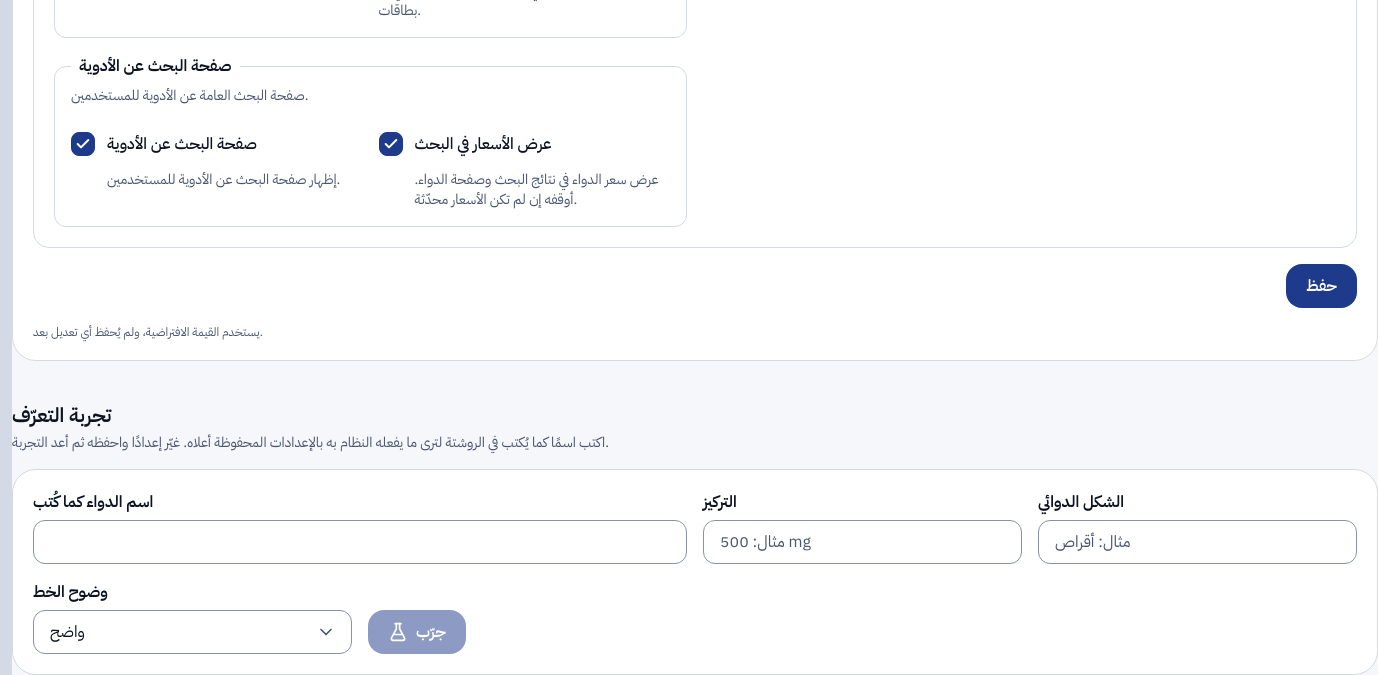
Test: DrugRecognitionView: sandbox › explains a verification in plain words and warns when the engine is off
This screenshot has width=1378, height=675.
(page scrolled)
In the field labelled "اسم الدواء كما كُتب": (360, 542) [33,520,687,564], type "flumox"
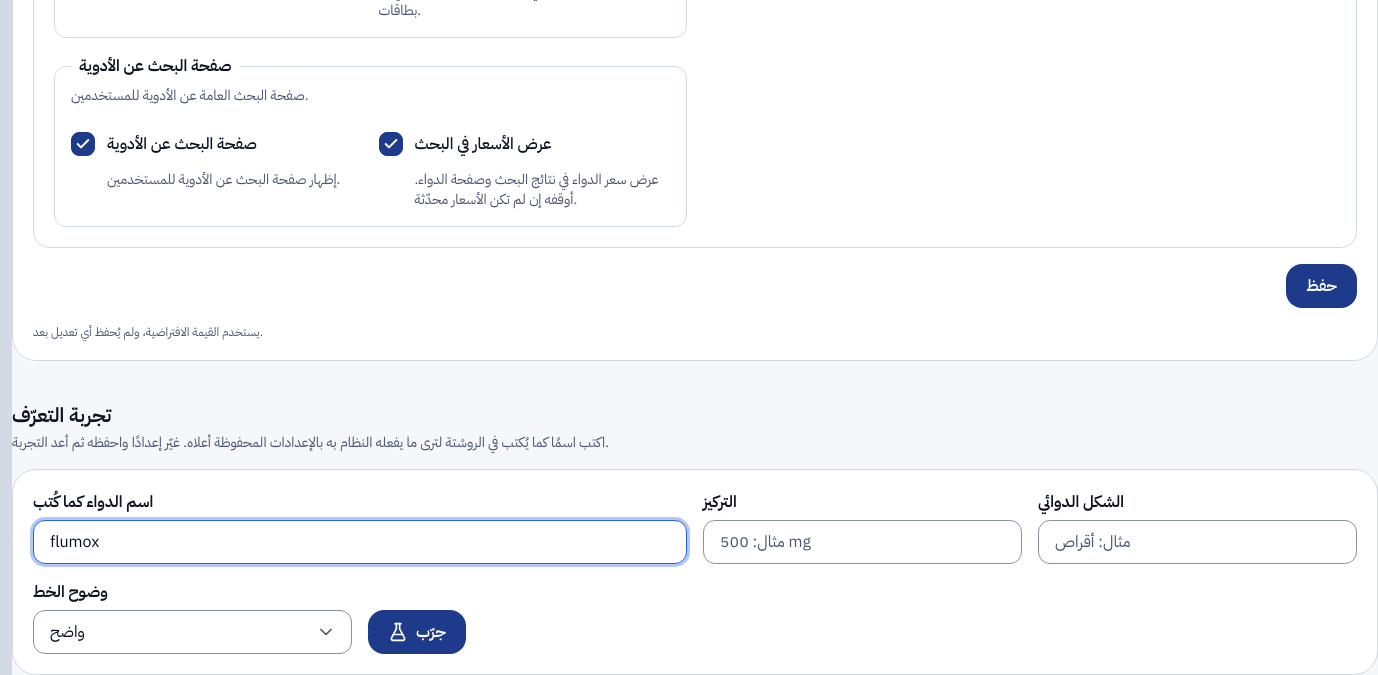
Click the button "جرّب": (417, 632) [368,610,466,654]
(page scrolled)
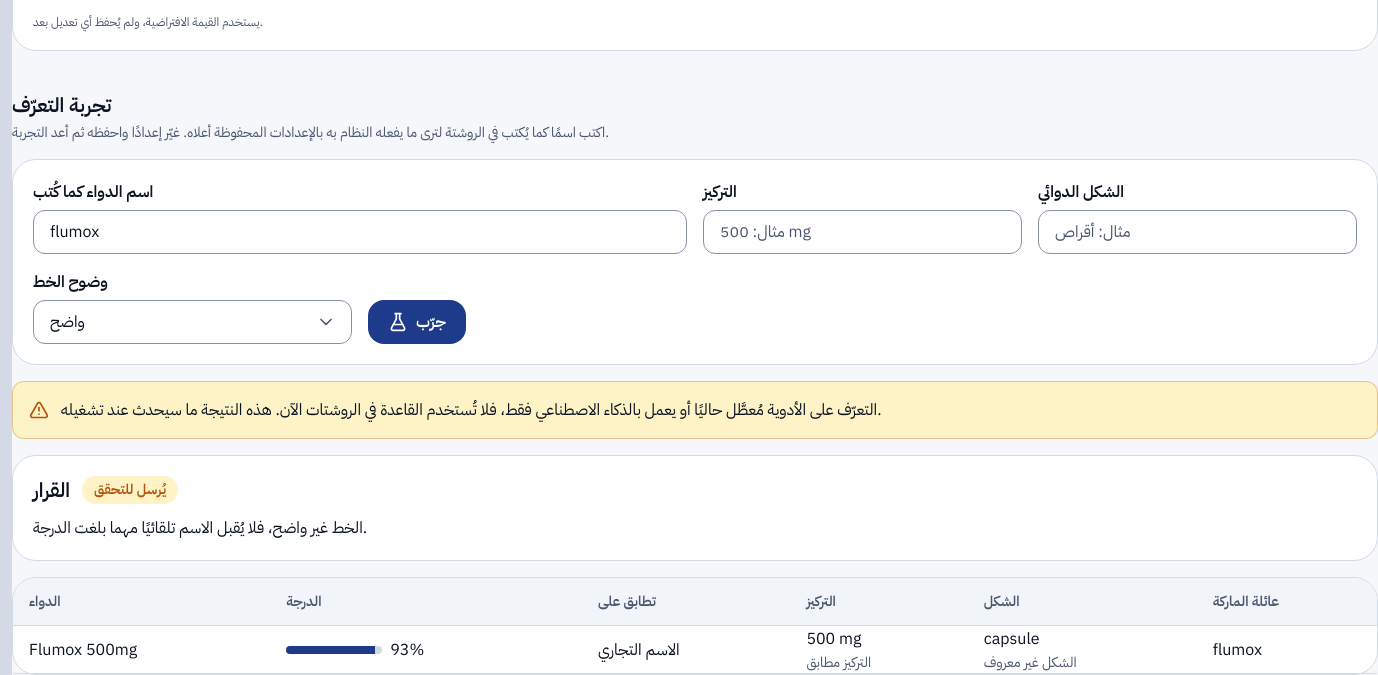
Expected: the text "الخط غير واضح، فلا يُقبل الاسم تلقائيًا مهما بلغت الدرجة." is shown, [33,516,367,540]
Expected: the text "التعرّف على الأدوية مُعطَّل حاليًا أو يعمل بالذكاء الاصطناعي فقط، فلا تُستخدم القاعدة في الروشتات الآن. هذه النتيجة ما س" is shown, [61,398,882,422]
Expected: the text "يُرسل للتحقق" is shown, [82,476,178,504]
